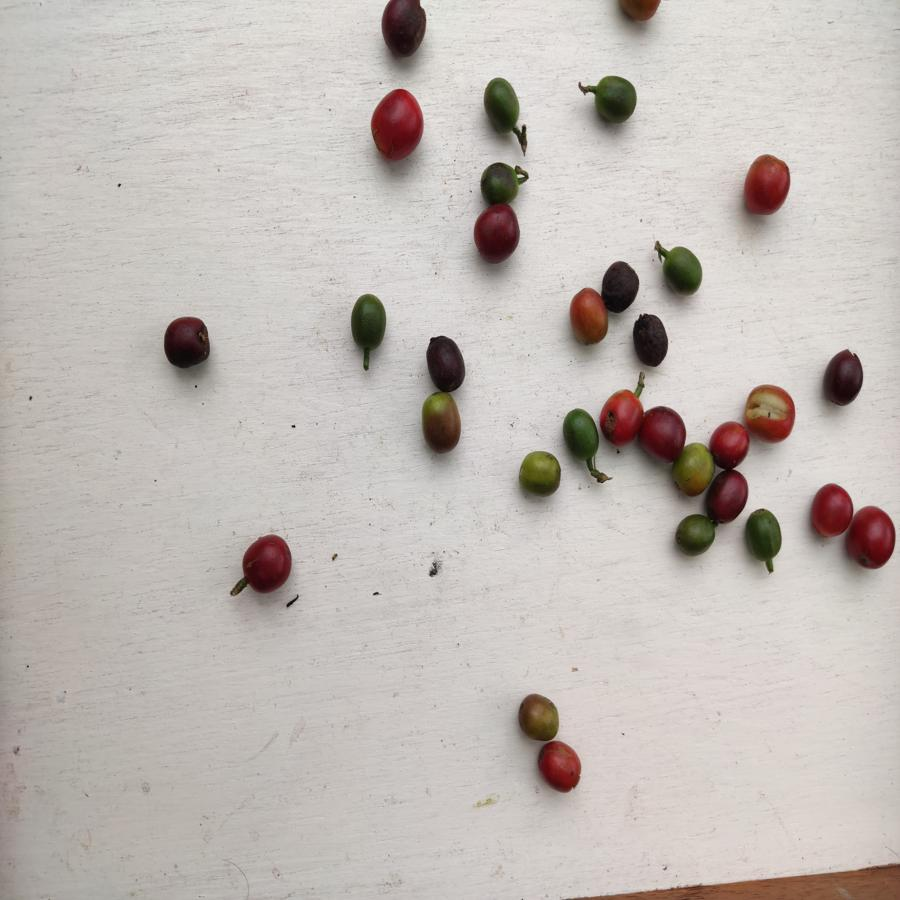Inmaduro: (482, 77, 524, 140), (348, 290, 389, 353), (588, 75, 637, 125), (658, 243, 702, 298), (745, 506, 785, 562), (562, 407, 598, 463), (481, 161, 525, 203), (676, 513, 715, 557)
Maduro: (368, 88, 430, 164), (242, 534, 297, 595), (849, 503, 897, 572), (746, 381, 796, 442), (745, 152, 791, 218), (533, 740, 585, 792), (811, 482, 854, 544), (599, 391, 643, 449), (712, 421, 752, 470)
Pinton: (417, 393, 465, 455), (566, 286, 608, 345), (515, 690, 562, 741), (674, 445, 713, 495), (518, 452, 562, 496)
Sobremaduro: (474, 204, 523, 270), (422, 332, 473, 392), (164, 312, 212, 372), (818, 348, 868, 405), (381, 1, 428, 61), (642, 405, 688, 464), (628, 310, 669, 367), (708, 470, 750, 522), (599, 258, 639, 312)
